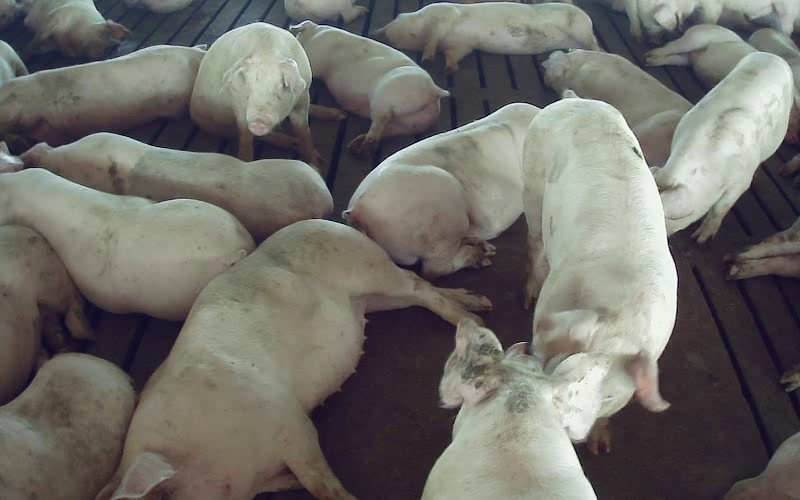pig: (102, 220, 489, 499), (523, 92, 676, 415), (343, 103, 538, 277), (422, 319, 609, 499), (21, 133, 332, 240), (654, 52, 792, 242), (291, 21, 447, 152), (0, 45, 204, 145), (0, 354, 134, 499), (190, 23, 319, 166), (542, 49, 691, 166), (377, 3, 599, 72), (22, 0, 128, 58)
